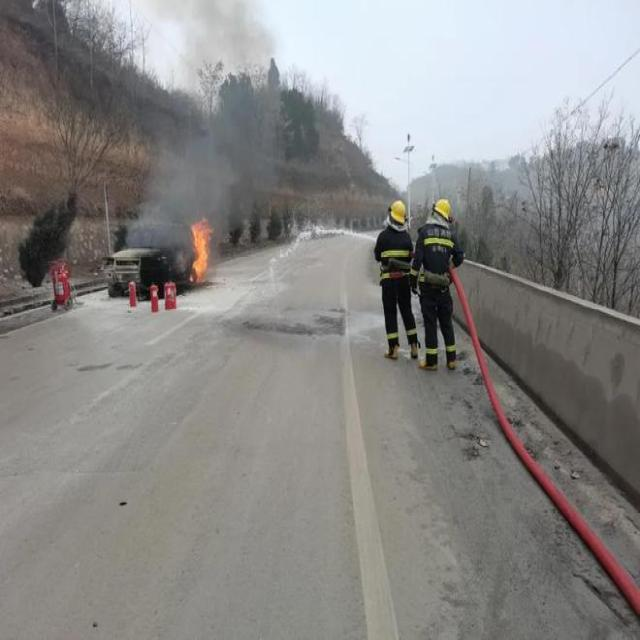Fire: (192, 220, 212, 282)
